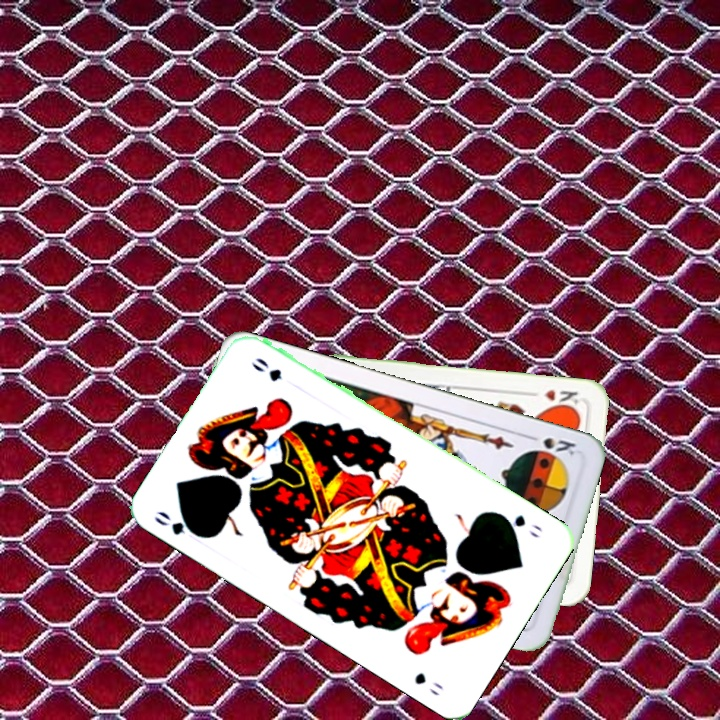GO: (149, 506, 207, 541), (494, 509, 544, 541)
HK: (540, 385, 583, 412)
SK: (522, 430, 579, 458)
